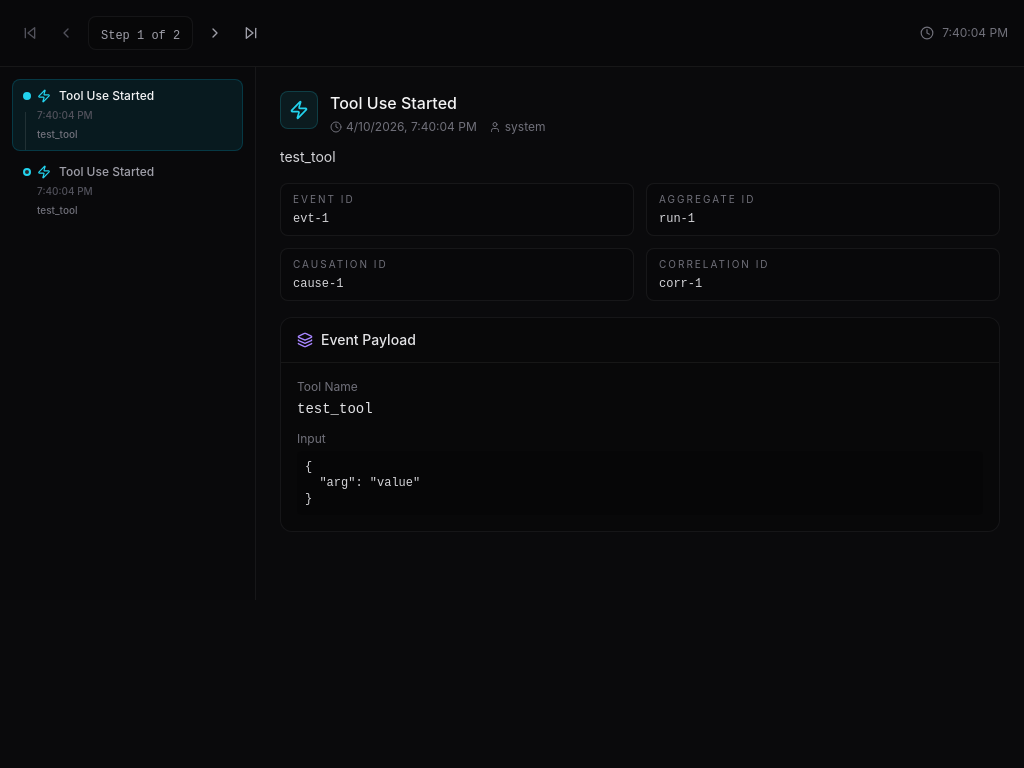
Test: RunReplayPanel › disables navigation buttons at boundaries
The image size is (1024, 768).
Expected: the button titled "Previous step" is disabled, [52,19,80,47]
Expected: the button titled "Jump to start" is disabled, [16,19,44,47]
Note: Navigate to end
Click the button titled "Jump to end" at (251, 33), box [237,19,265,47]
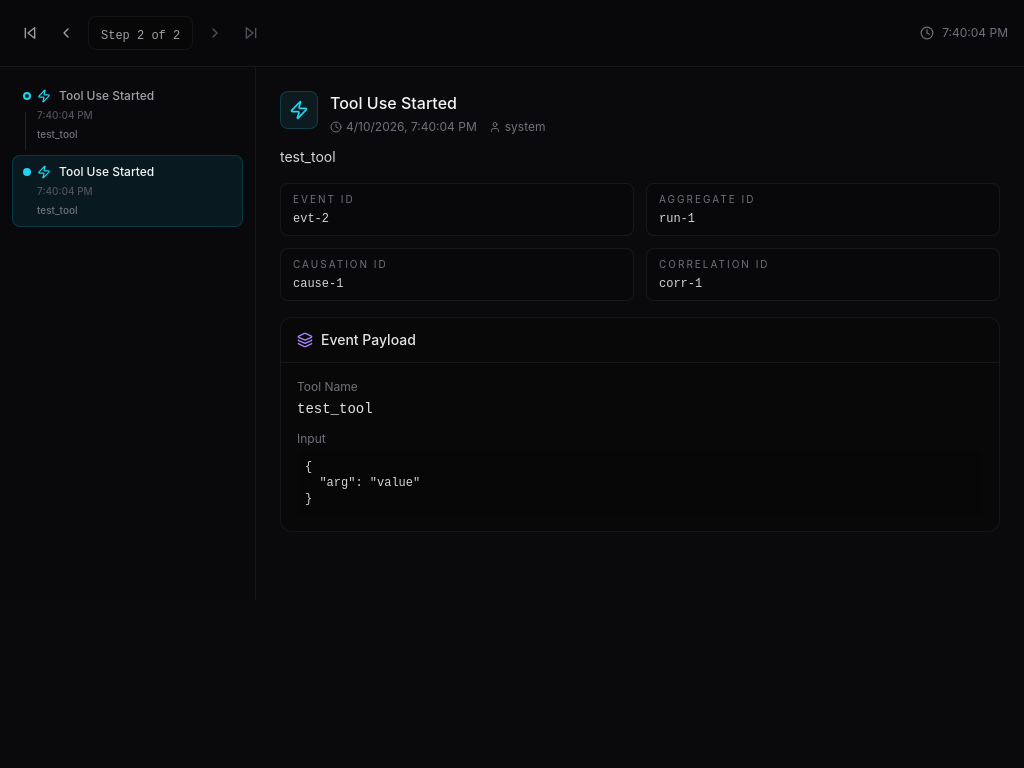
Expected: the button titled "Next step" is disabled, [201,19,229,47]
Result: the button titled "Jump to end" is disabled at [237,19,265,47]
